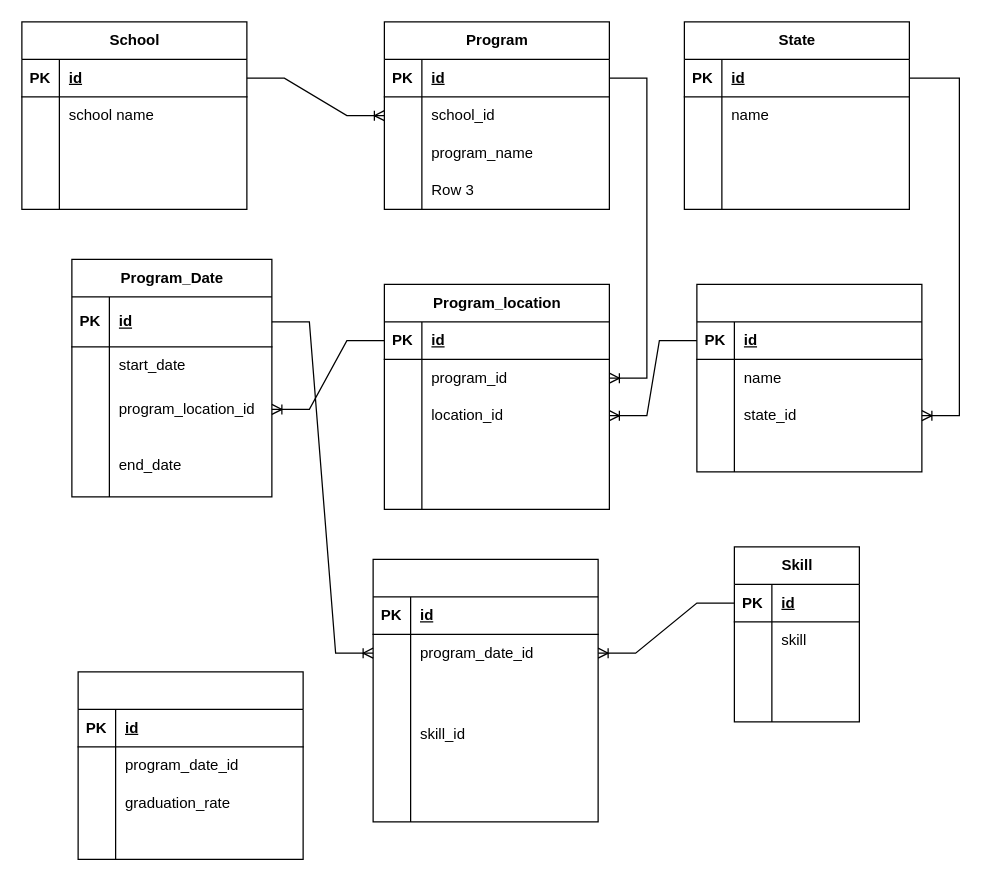
This 991x881 diagram has some shape labels left out. Here are the shapes that lost their labels. From the top down, the box of each, then its label:
(696, 283, 922, 472): Location
(372, 558, 598, 822): Program_skill
(77, 671, 303, 859): Outcome
